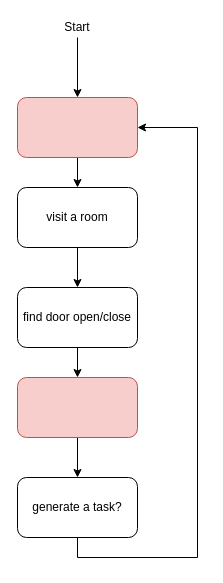
Image size: 223x583. Some labels were removed from this diagram. Here are the shapes that lost their labels. From the top down, the centre of each, then its label:
(x=77, y=127): get a task（？）from centralize pool
(x=77, y=407): learn and update office occupation for this room（？）
